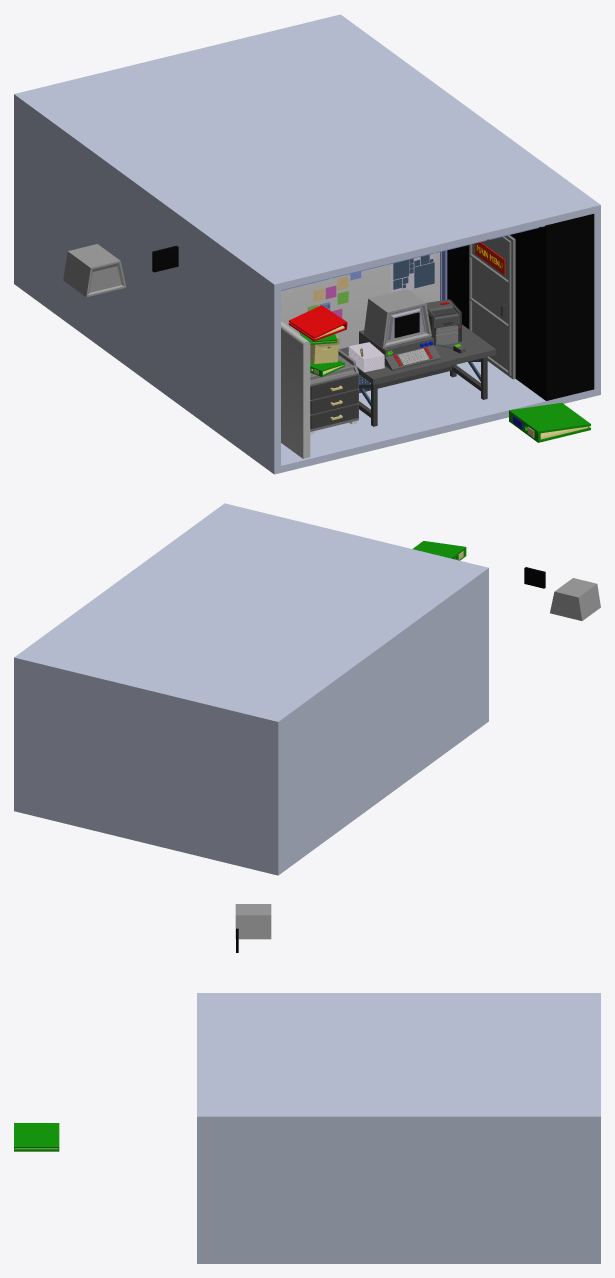
Rendered from office.glb.
3 views of the same model, one above another, from view 1: azimuth 30°, elevation 25°; view 2: azimuth 150°, elevation 25°; view 3: azimuth 270°, elevation 25° (orthographic). The views are drawn at different scales.
Visible parts, largest first — view 1: Комната, Cube.008, Cube.044, Cube.018, Cube.028, Cube.010, Cube.046, Cube.011, Cube.020, Cube.048, Cube.058, Cube.029 (+5 smaller); view 2: Комната, Cube.046, Cube.048; view 3: Комната, Cube.048, Cube.046.
Part boxes in pixels (<box>): Комната: <box>14,14,600,474</box>; Cube.008: <box>447,214,594,400</box>; Cube.044: <box>469,235,515,379</box>; Cube.018: <box>281,252,439,349</box>; Cube.028: <box>281,321,310,458</box>; Cube.010: <box>364,289,431,347</box>; Cube.046: <box>63,244,126,297</box>; Cube.011: <box>340,324,496,384</box>; Cube.020: <box>310,374,358,429</box>; Cube.048: <box>509,402,590,442</box>; Cube.058: <box>288,305,347,341</box>; Cube.029: <box>359,330,440,370</box>; Комната: <box>14,503,488,875</box>; Cube.046: <box>550,578,600,620</box>; Cube.048: <box>413,541,466,560</box>; Комната: <box>197,993,600,1263</box>; Cube.048: <box>14,1123,59,1151</box>; Cube.046: <box>235,904,271,939</box>.
Bounding box in the file's own units: 19.43 × 8.6 × 25.99.
